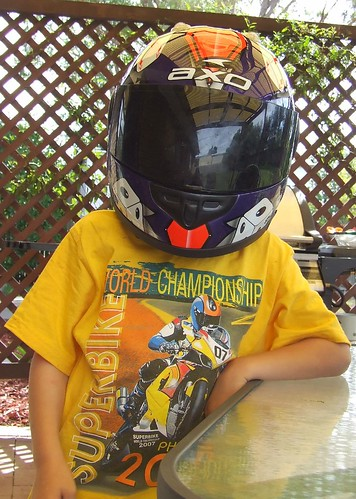helmet: (84, 25, 329, 261)
